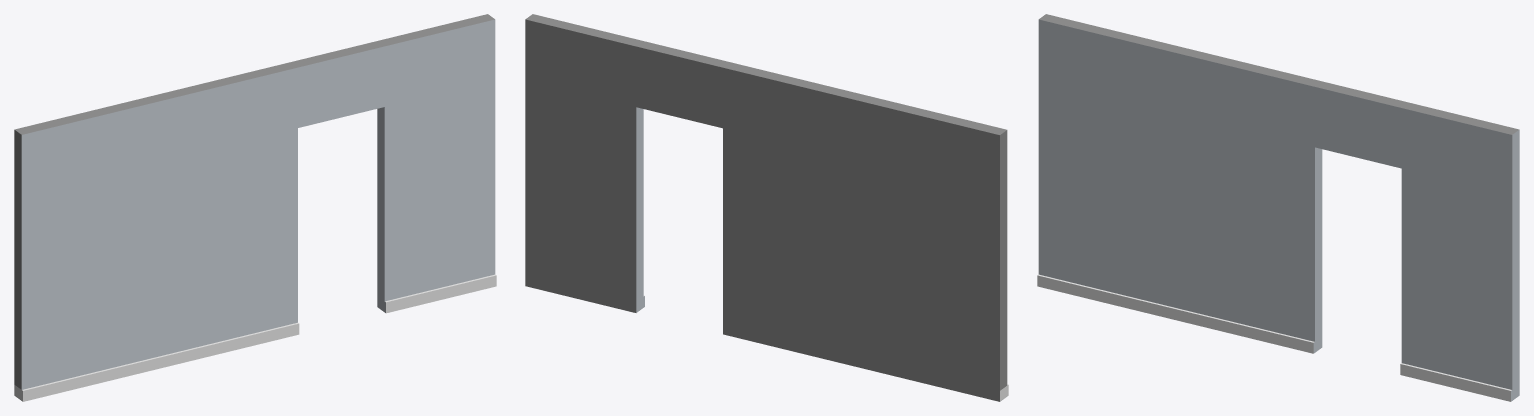
Rendered from Wall 2.FBX.
3 renders of one model, left to right at view 1: azimuth 30°, elevation 25°; view 2: azimuth 150°, elevation 25°; view 3: azimuth 330°, elevation 25°, orthographic.
Visible parts, largest first — view 1: Wall 2; view 2: Wall 2; view 3: Wall 2.
Part boxes in pixels (x1,y1,x2,y2): Wall 2: (14, 14, 496, 401); Wall 2: (525, 14, 1008, 401); Wall 2: (1037, 14, 1519, 401).
Size of the model in its own units: 502 by 269 by 15.96.
Materials: 2 (1 with a texture image).
